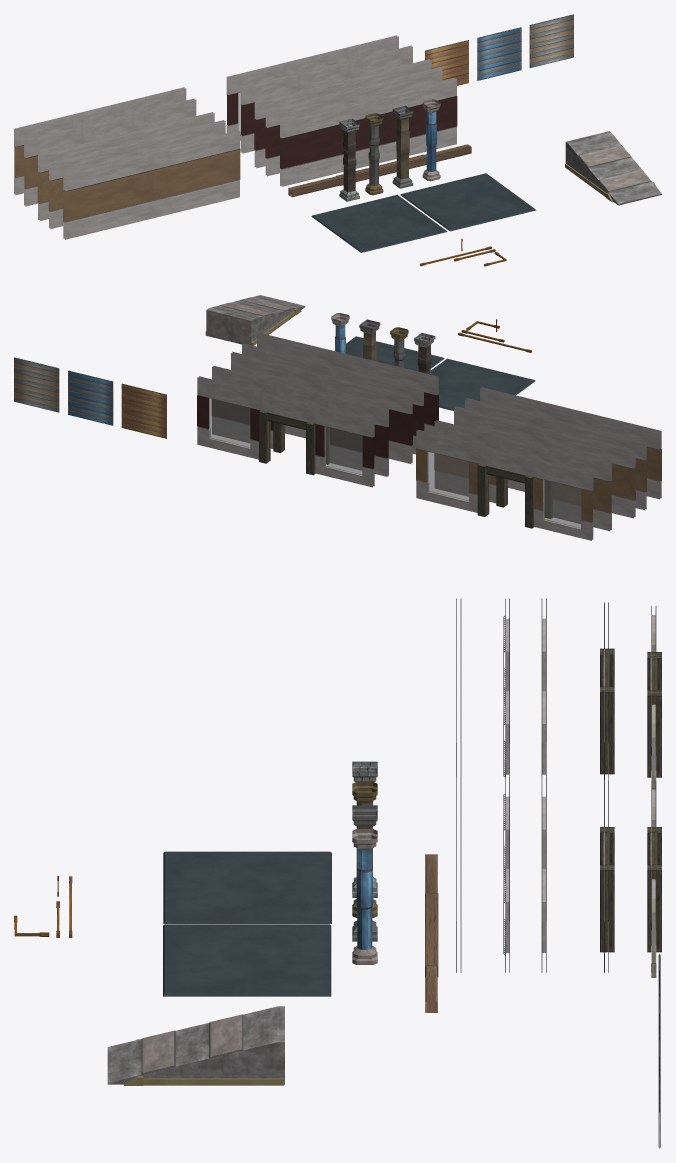
Rendered from ModulerFabrkSys.FBX.
The picture shows the model from 3 angles, top to bottom: view 1: azimuth 30°, elevation 25°; view 2: azimuth 150°, elevation 25°; view 3: azimuth 270°, elevation 25°; orthographic projection. The views are drawn at different scales.
Parts seen in each view (by area): view 1: Duvar_B_1, Duvar_A_1, Zemin_2, Zemin_1, Rampa, Duvar_A_1_Kapi_1, Duvar_B_1_Kapi_1, Duvar_A_2_pencere_D, Duvar_B_2_pencere_D, Duvar_A_1_Kapi_2, Duvar_B_1_Kapi_2, Duvar_A_2_pencere (+9 smaller); view 2: Duvar_A_1_Kapi_2, Duvar_B_1_Kapi_2, Duvar_B_1_Kapi_1, Duvar_A_1_Kapi_1, Duvar_A_2_pencere, Duvar_B_2_pencere, Duvar_B_1, Duvar_A_1, Rampa, Zemin_2, Duvar_B_2_pencere_D, Duvar_A_2_pencere_D (+8 smaller); view 3: Zemin_2, Zemin_1, Rampa, Stun_4, Duvar_A_1_Kapi_2, Duvar_B_1_Kapi_2, Yatay_Sutun, Duvar_A_1_Kapi_1, Duvar_B_1_Kapi_1, Duvar_A_2_pencere_D, Duvar_B_2_pencere_D, Duvar_A_2_pencere (+2 smaller).
Boxes of the visible parts, box(x1,y1,x2,y2) form: Duvar_B_1: box(63, 130, 240, 239); Duvar_A_1: box(280, 78, 457, 186); Zemin_2: box(311, 194, 447, 252); Zemin_1: box(400, 173, 536, 231); Rampa: box(565, 131, 661, 205); Duvar_A_1_Kapi_1: box(240, 45, 412, 153); Duvar_B_1_Kapi_1: box(24, 98, 196, 206); Duvar_A_2_pencere_D: box(265, 67, 442, 176); Duvar_B_2_pencere_D: box(48, 120, 225, 229); Duvar_A_1_Kapi_2: box(226, 35, 398, 140); Duvar_B_1_Kapi_2: box(14, 87, 186, 195); Duvar_A_2_pencere: box(254, 59, 431, 168); Duvar_A_1_Kapi_2: box(197, 376, 374, 487); Duvar_B_1_Kapi_2: box(416, 429, 593, 540); Duvar_B_1_Kapi_1: box(434, 420, 611, 531); Duvar_A_1_Kapi_1: box(212, 365, 388, 476); Duvar_A_2_pencere: box(231, 351, 412, 463); Duvar_B_2_pencere: box(454, 406, 635, 518); Duvar_B_1: box(480, 387, 661, 499); Duvar_A_1: box(257, 332, 438, 433); Rampa: box(205, 295, 305, 345); Zemin_2: box(430, 358, 535, 410); Duvar_B_2_pencere_D: box(465, 398, 646, 510); Duvar_A_2_pencere_D: box(242, 343, 424, 454); Zemin_2: box(163, 851, 331, 923); Zemin_1: box(163, 924, 331, 996); Rampa: box(107, 1006, 284, 1085); Stun_4: box(352, 829, 377, 964); Duvar_A_1_Kapi_2: box(647, 780, 661, 977); Duvar_B_1_Kapi_2: box(647, 606, 661, 789); Yatay_Sutun: box(425, 854, 438, 1012); Duvar_A_1_Kapi_1: box(600, 780, 614, 972); Duvar_B_1_Kapi_1: box(600, 602, 614, 780); Duvar_A_2_pencere_D: box(503, 777, 509, 972); Duvar_B_2_pencere_D: box(503, 598, 509, 777); Duvar_A_2_pencere: box(541, 776, 546, 972).
Bounding box in the file's own units: 1814 × 238 × 1061.
